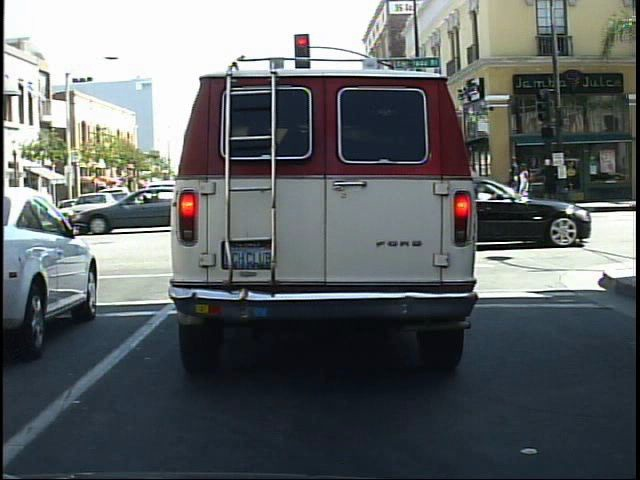person: (516, 157, 541, 214), (539, 154, 563, 200), (517, 160, 536, 213), (505, 153, 522, 199)
